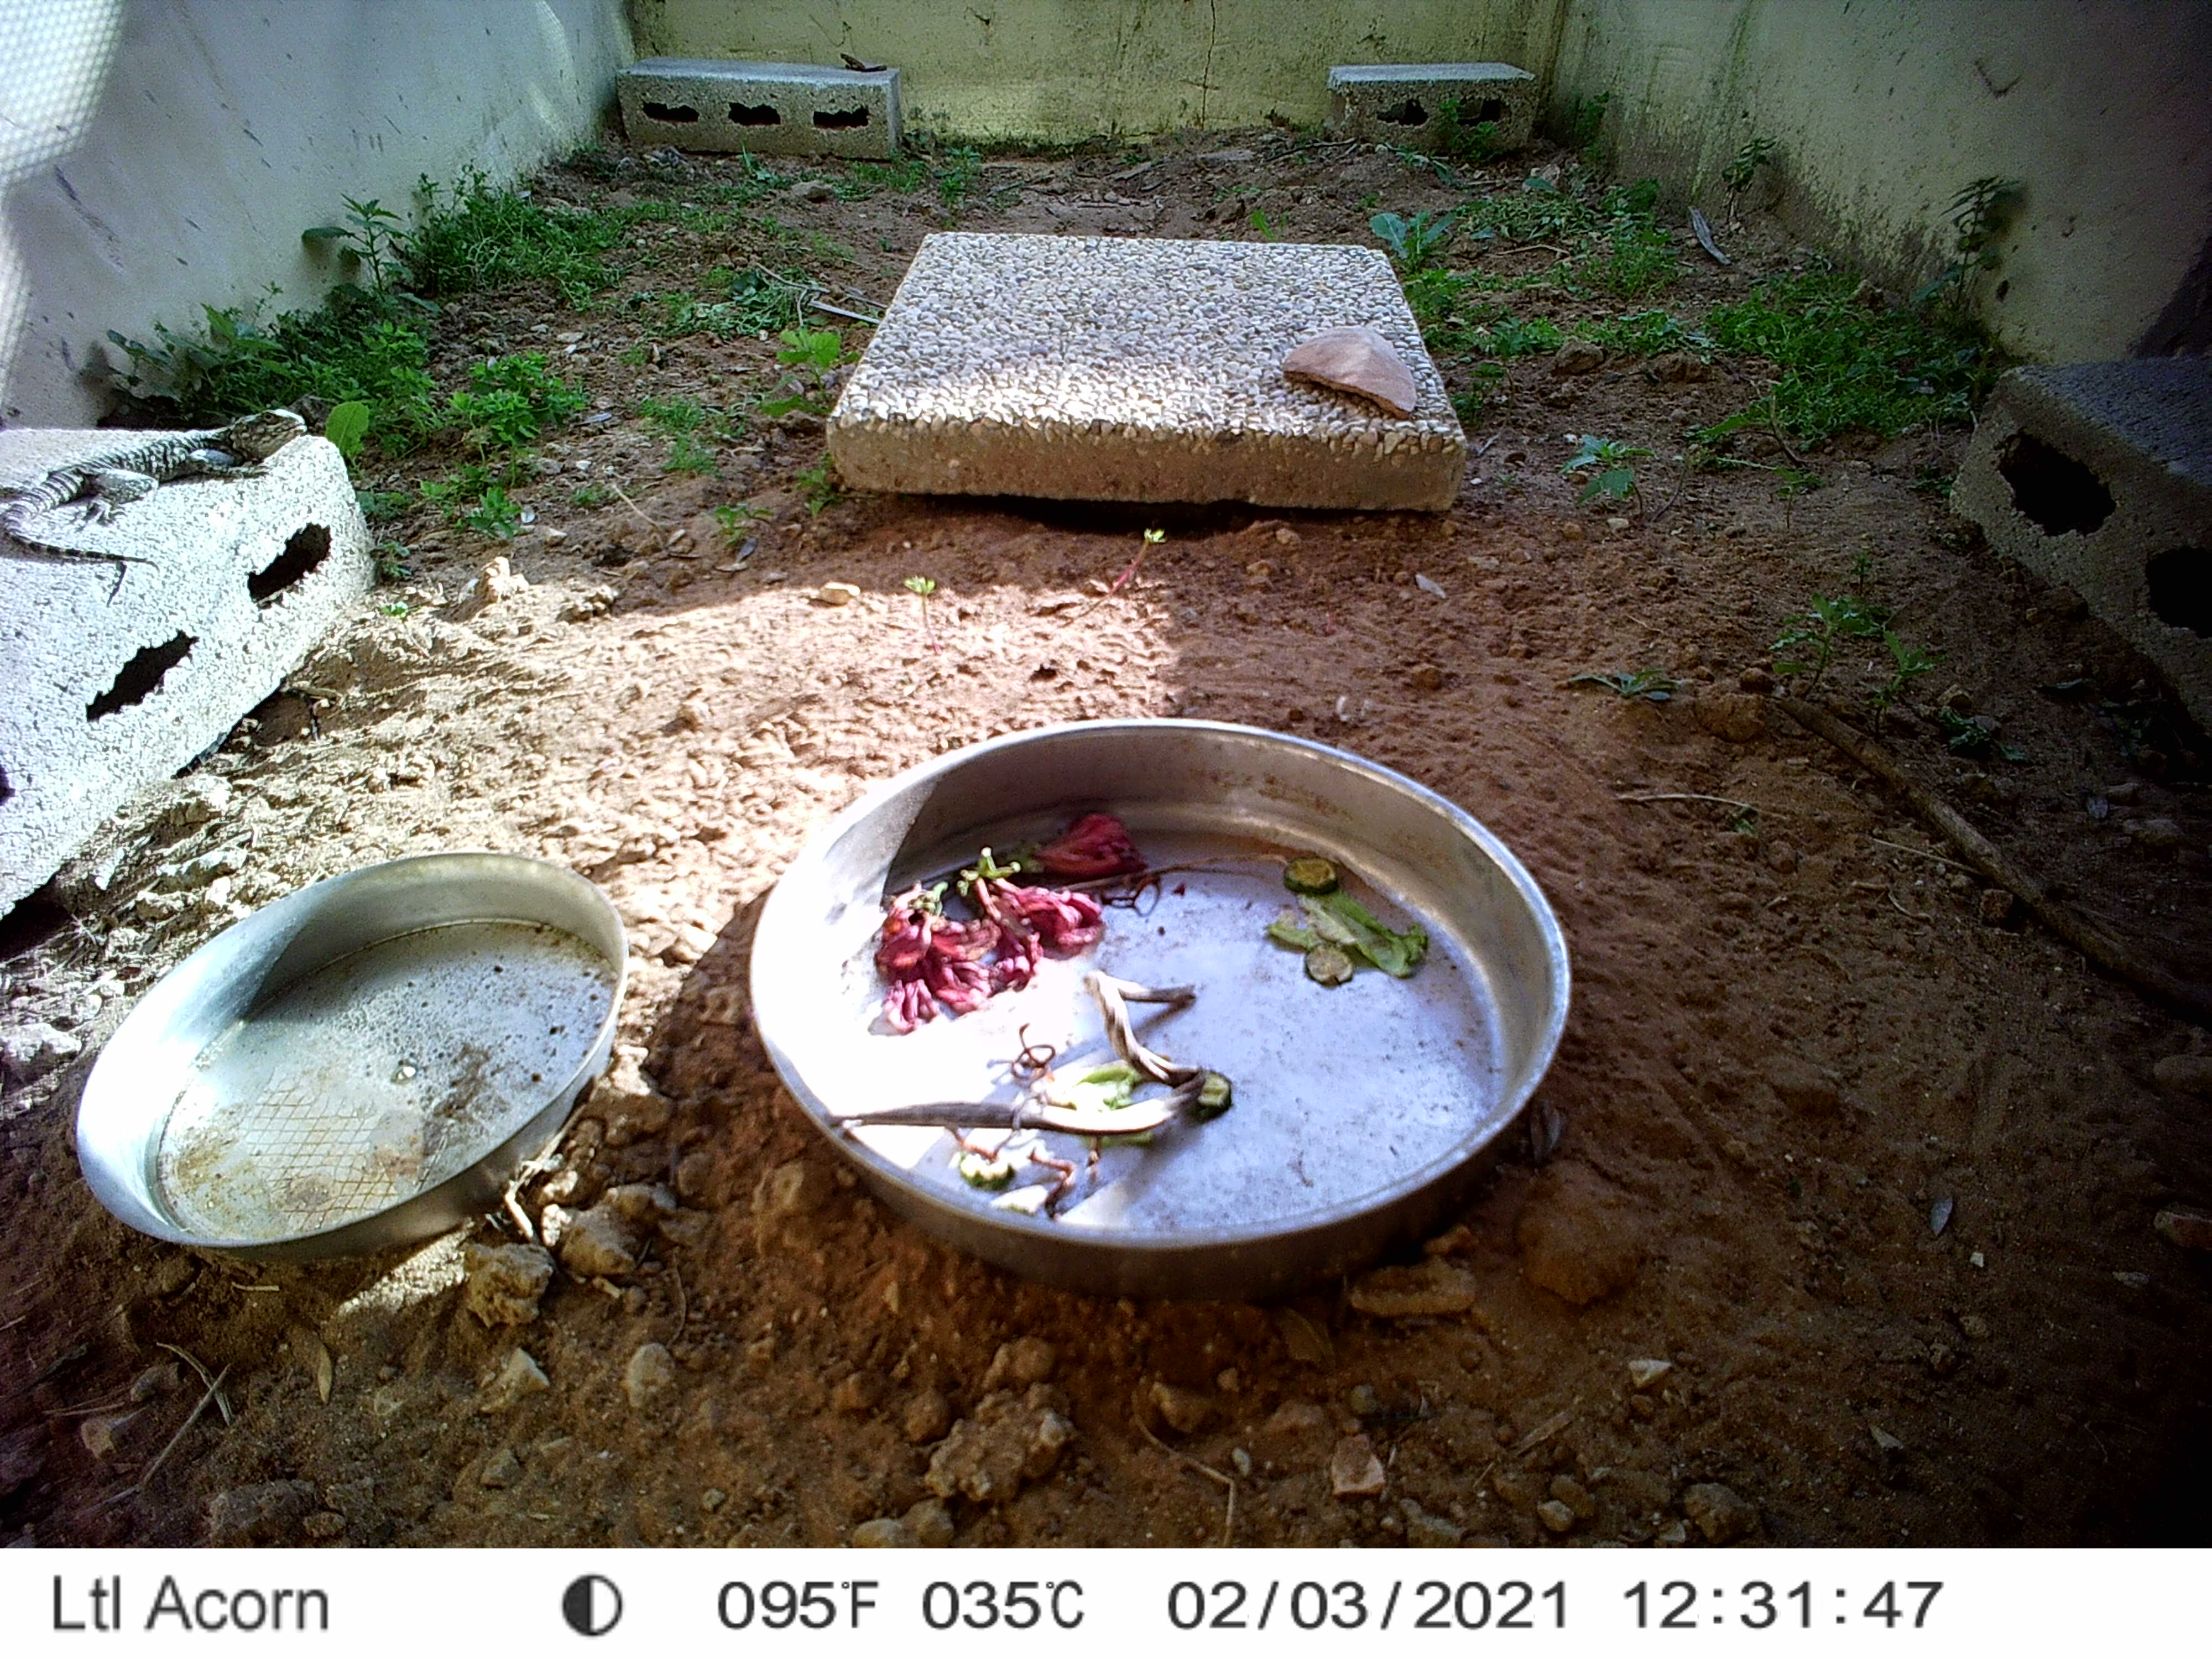lizard: (0, 404, 312, 572)
